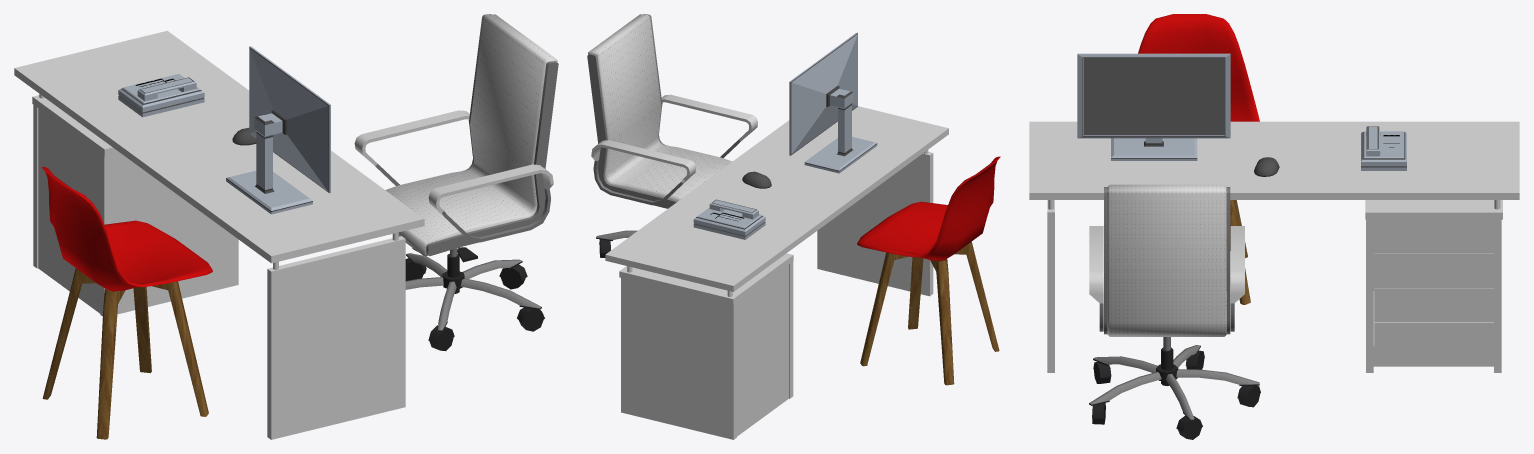
Rendered from set_office.fbx.
The picture shows the model from 3 angles, left to right: view 1: azimuth 30°, elevation 25°; view 2: azimuth 150°, elevation 25°; view 3: azimuth 270°, elevation 25°; orthographic projection. The views are drawn at different scales.
Parts seen in each view (by area): view 1: meja konsul, OfficeChair, Chair, Machintose, telephonez; view 2: meja konsul, OfficeChair, Chair, Machintose, telephonez; view 3: meja konsul, OfficeChair, Machintose, Chair, telephonez.
Part boxes in pixels (x1,y1,x2,y2): meja konsul: [14, 30, 424, 439]; OfficeChair: [354, 14, 558, 351]; Chair: [41, 166, 212, 439]; Machintose: [226, 46, 330, 214]; telephonez: [118, 74, 204, 117]; meja konsul: [605, 106, 948, 439]; OfficeChair: [587, 14, 757, 257]; Chair: [857, 156, 1000, 385]; Machintose: [742, 32, 877, 188]; telephonez: [693, 199, 765, 239]; meja konsul: [1029, 121, 1519, 372]; OfficeChair: [1089, 184, 1260, 439]; Machintose: [1077, 53, 1279, 176]; Chair: [1138, 14, 1259, 304]; telephonez: [1361, 126, 1406, 170].
Size of the model in its own units: 204 by 128 by 194.
